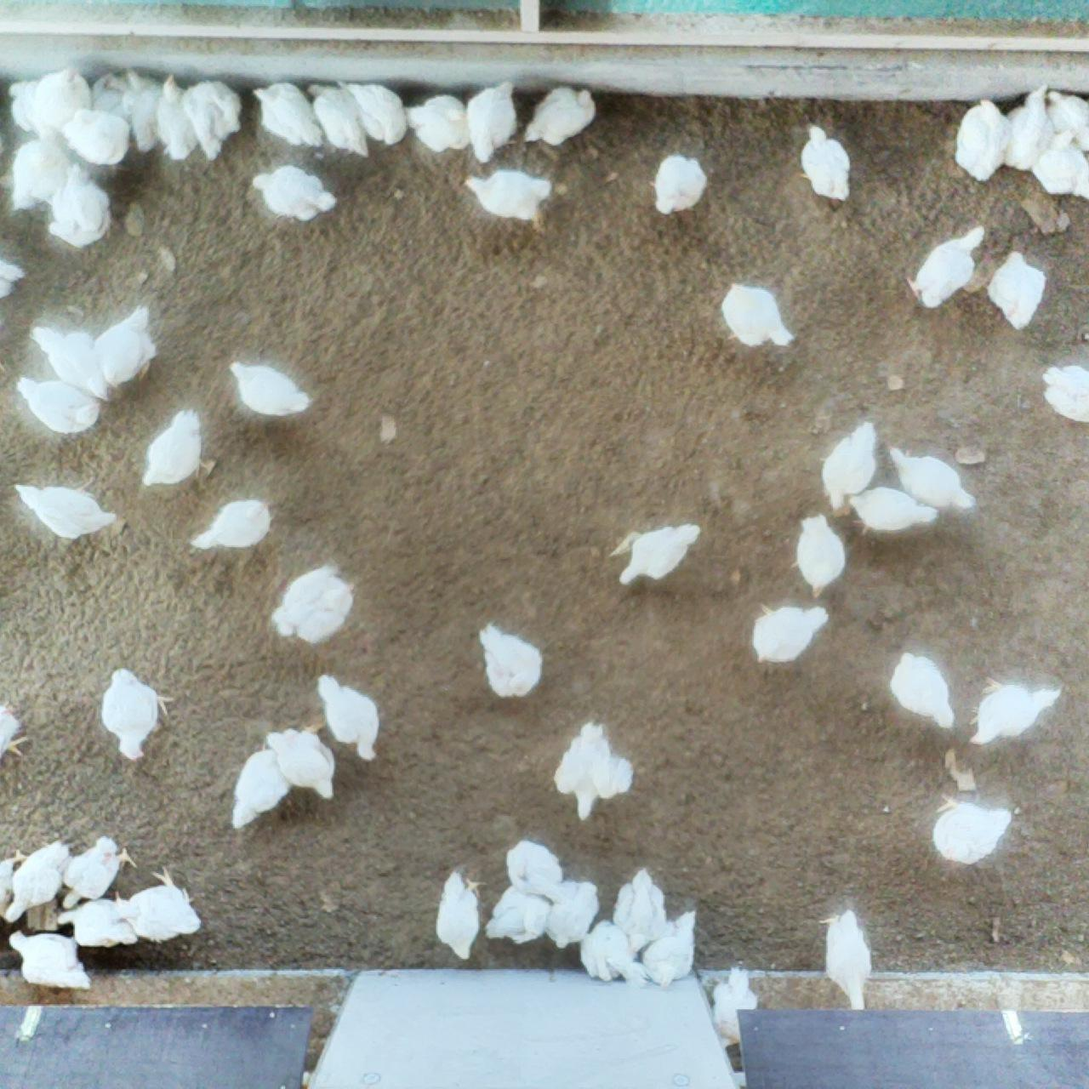chicken: (551, 717, 635, 823), (965, 671, 1066, 750), (99, 665, 178, 763), (268, 561, 357, 646), (113, 865, 205, 944), (906, 224, 988, 311), (139, 405, 220, 491), (930, 790, 1017, 870), (13, 475, 118, 540), (29, 322, 112, 404), (462, 166, 559, 236), (884, 442, 979, 512), (311, 671, 382, 762), (59, 835, 140, 911), (817, 904, 873, 1013), (3, 837, 72, 925), (47, 160, 114, 250), (90, 303, 159, 390), (263, 721, 338, 801), (615, 521, 703, 589), (817, 420, 879, 516), (715, 281, 798, 352), (750, 599, 834, 669), (477, 619, 546, 704), (887, 649, 958, 731), (5, 928, 95, 992), (8, 125, 71, 215), (985, 248, 1051, 333), (230, 746, 294, 833), (250, 162, 339, 224), (305, 80, 373, 160), (14, 374, 102, 435), (432, 868, 489, 962), (181, 78, 244, 163), (788, 513, 849, 600), (610, 867, 668, 958), (250, 79, 324, 150), (336, 78, 410, 149), (843, 483, 940, 537), (952, 97, 1012, 184), (639, 908, 701, 992), (27, 65, 95, 140), (228, 356, 312, 416), (188, 496, 278, 552), (463, 81, 523, 165), (523, 83, 600, 148), (795, 122, 855, 205), (483, 883, 554, 946), (1001, 81, 1050, 172), (59, 108, 132, 169), (542, 877, 602, 950), (57, 895, 139, 948), (708, 962, 759, 1047), (1030, 126, 1089, 199), (647, 150, 710, 218), (118, 68, 167, 155), (590, 917, 650, 988), (155, 74, 200, 162), (413, 91, 473, 154), (504, 839, 564, 899), (1038, 362, 1089, 426), (1045, 86, 1089, 153), (87, 70, 133, 123), (0, 847, 30, 918), (577, 931, 613, 987), (0, 699, 30, 764), (401, 103, 468, 130), (7, 78, 38, 133), (0, 258, 26, 304)
